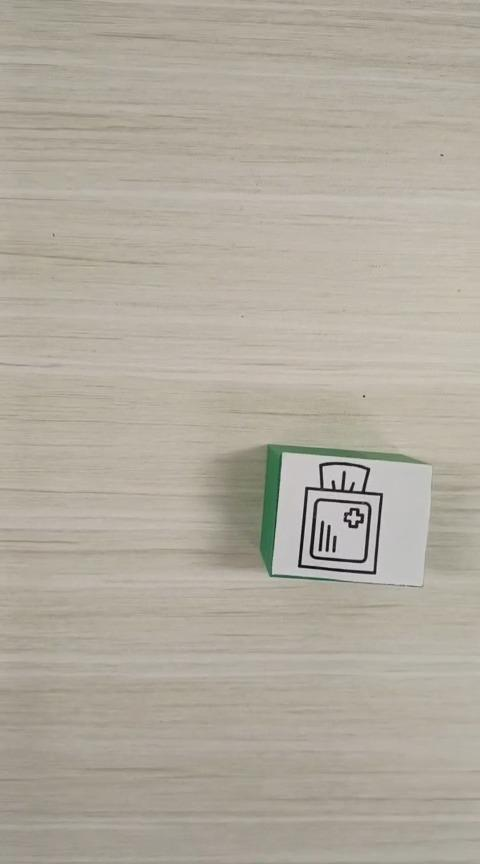Gauze: (258, 442, 433, 588)
